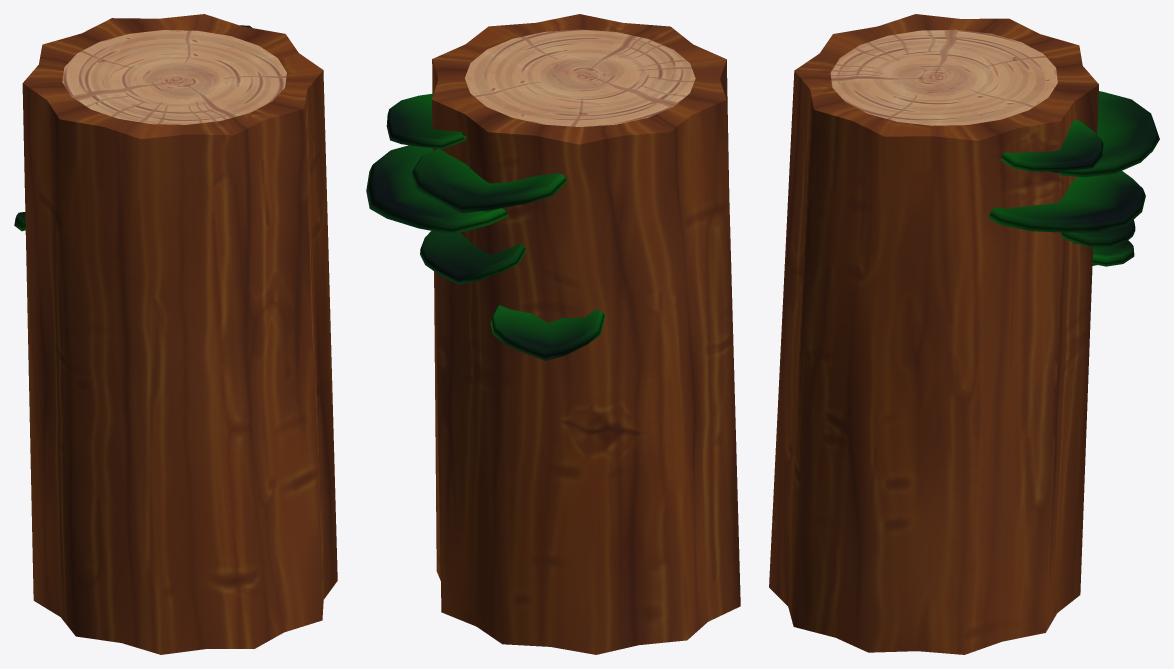
The model's file is obj_harvests_trees_pine02_p04.fbx.
3 renders of one model, left to right at view 1: azimuth 30°, elevation 25°; view 2: azimuth 150°, elevation 25°; view 3: azimuth 270°, elevation 25°, orthographic. The views are drawn at different scales.
Parts seen in each view (by area): view 1: chunk04; view 2: chunk04; view 3: chunk04.
Part boxes in pixels (box(x1,y1,x2,y2)): chunk04: box(14, 14, 337, 654); chunk04: box(366, 14, 740, 654); chunk04: box(769, 14, 1159, 654).
Size of the model in its own units: 4.54 by 8 by 5.53.
